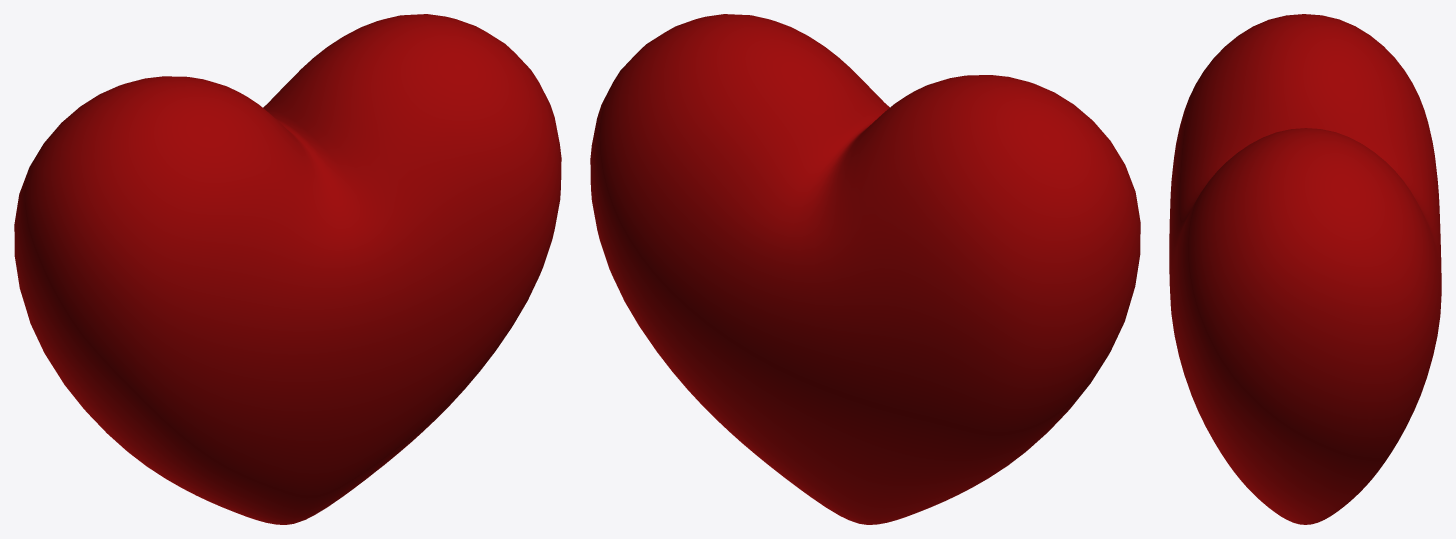
3 views of the same model, side by side, from view 1: azimuth 30°, elevation 25°; view 2: azimuth 150°, elevation 25°; view 3: azimuth 270°, elevation 25° (orthographic). The views are drawn at different scales.
Visible parts, largest first — view 1: Sketchfab Model; view 2: Sketchfab Model; view 3: Sketchfab Model.
Part boxes in pixels (x1,y1,x2,y2): Sketchfab Model: [14, 14, 561, 524]; Sketchfab Model: [590, 14, 1140, 524]; Sketchfab Model: [1169, 14, 1441, 524].
Size of the model in its own units: 9002 by 7850 by 4437.
